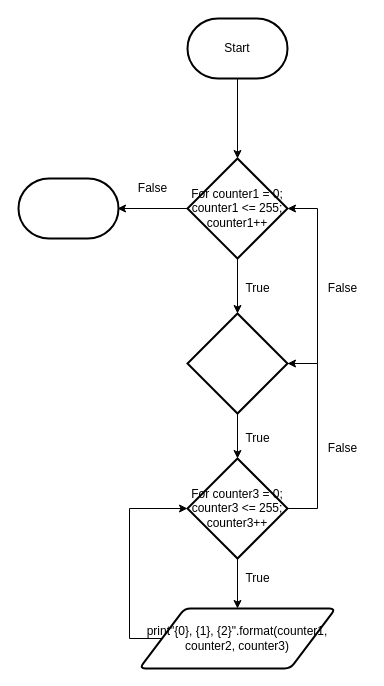
Some shapes in this 384 by 686 pixel diagram are drawn without their labels. Each missing label, with the centre of its shape:
For counter2 = 0; counter2 <= 255; counter2++: [237,363]
Stop: [68,208]
